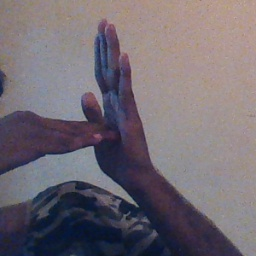Z: (25, 16, 148, 180)
